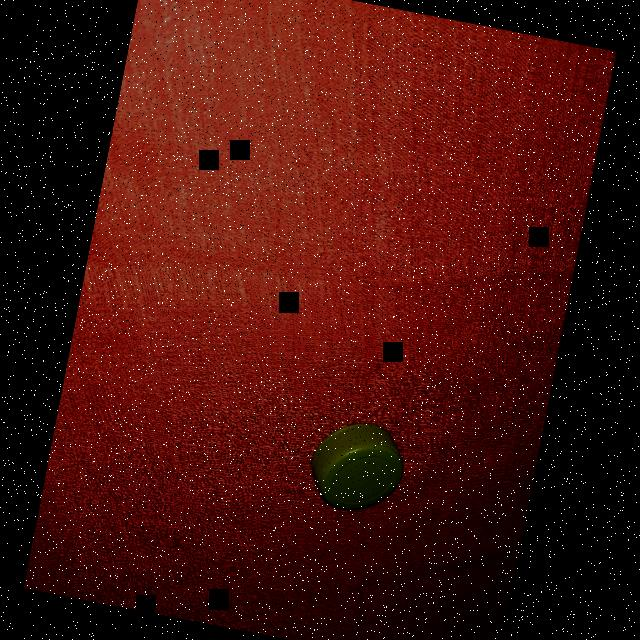plastic_bottle_cap: (304, 415, 414, 521)
